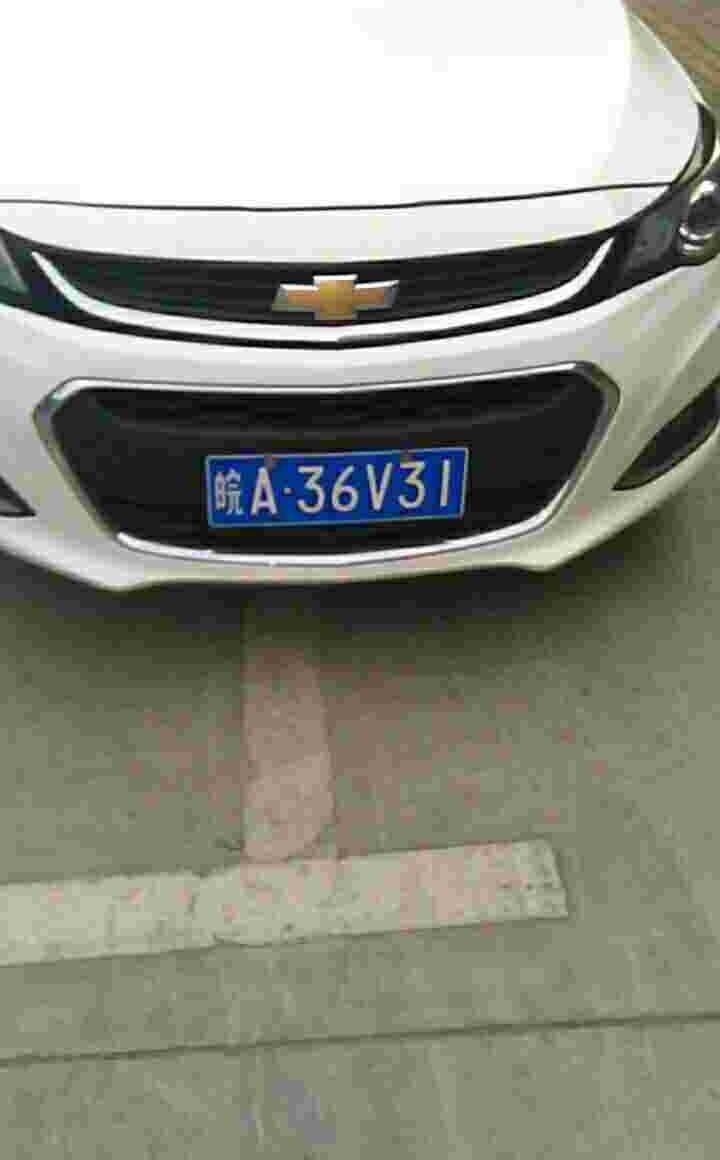license_plate: (203, 442, 474, 534)
